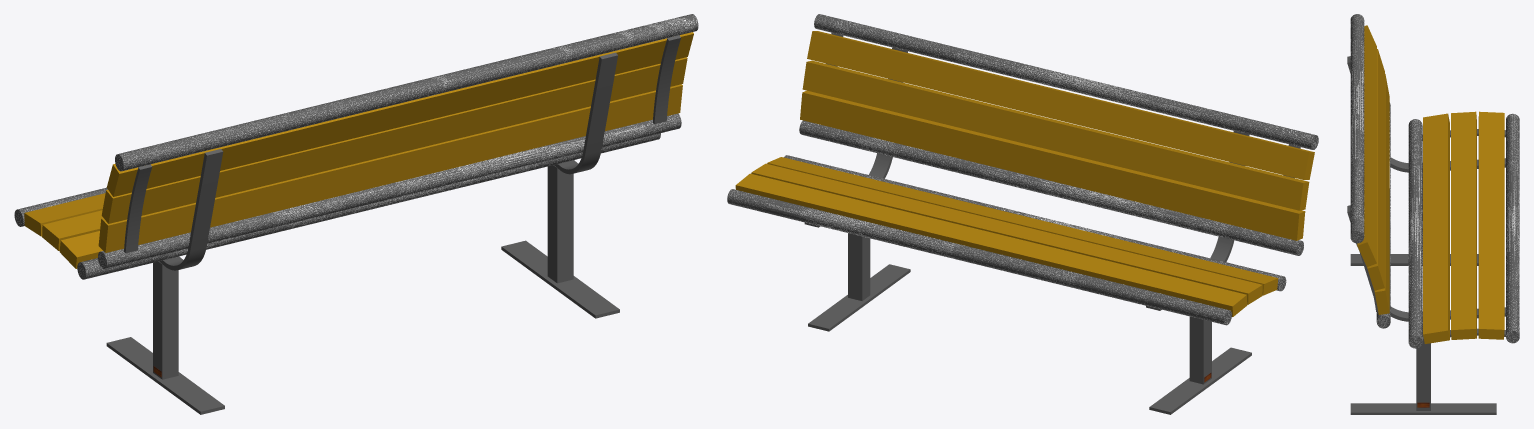
3 views of the same model, side by side, from view 1: azimuth 30°, elevation 25°; view 2: azimuth 150°, elevation 25°; view 3: azimuth 270°, elevation 25° (orthographic). The views are drawn at different scales.
Parts seen in each view (by area): view 1: mesh31_mesh31-geometry, mesh28_mesh28-geometry, mesh25_mesh25-geometry, mesh49_mesh49-geometry, mesh50_mesh50-geometry, mesh52_mesh52-geometry, mesh17_mesh17-geometry, mesh3_mesh3-geometry, mesh1_mesh1-geometry, mesh15_mesh15-geometry, mesh16_mesh16-geometry, mesh2_mesh2-geometry (+8 smaller); view 2: mesh25_mesh25-geometry, mesh28_mesh28-geometry, mesh31_mesh31-geometry, mesh47_mesh47-geometry, mesh51_mesh51-geometry, mesh49_mesh49-geometry, mesh50_mesh50-geometry, mesh41_mesh41-geometry, mesh45_mesh45-geometry, mesh52_mesh52-geometry, mesh29_mesh29-geometry, mesh16_mesh16-geometry (+5 smaller); view 3: mesh47_mesh47-geometry, mesh41_mesh41-geometry, mesh45_mesh45-geometry, mesh52_mesh52-geometry, mesh49_mesh49-geometry, mesh51_mesh51-geometry, mesh25_mesh25-geometry, mesh28_mesh28-geometry, mesh16_mesh16-geometry, mesh31_mesh31-geometry, mesh17_mesh17-geometry, mesh50_mesh50-geometry (+7 smaller).
Boxes of the visible parts, x1,y1,x2,y2 form: mesh31_mesh31-geometry: [98, 85, 682, 252]; mesh28_mesh28-geometry: [101, 58, 687, 223]; mesh25_mesh25-geometry: [106, 32, 693, 196]; mesh49_mesh49-geometry: [115, 14, 698, 171]; mesh50_mesh50-geometry: [98, 113, 681, 268]; mesh52_mesh52-geometry: [77, 133, 660, 279]; mesh17_mesh17-geometry: [547, 165, 573, 283]; mesh3_mesh3-geometry: [153, 261, 178, 379]; mesh1_mesh1-geometry: [159, 149, 223, 270]; mesh15_mesh15-geometry: [554, 52, 617, 174]; mesh16_mesh16-geometry: [501, 240, 619, 318]; mesh2_mesh2-geometry: [106, 337, 224, 414]; mesh25_mesh25-geometry: [807, 31, 1314, 179]; mesh28_mesh28-geometry: [802, 62, 1309, 210]; mesh31_mesh31-geometry: [800, 92, 1305, 240]; mesh47_mesh47-geometry: [735, 173, 1247, 316]; mesh51_mesh51-geometry: [727, 189, 1231, 325]; mesh49_mesh49-geometry: [814, 14, 1318, 149]; mesh50_mesh50-geometry: [799, 120, 1303, 255]; mesh41_mesh41-geometry: [751, 163, 1262, 304]; mesh45_mesh45-geometry: [767, 157, 1278, 295]; mesh52_mesh52-geometry: [784, 155, 1286, 291]; mesh29_mesh29-geometry: [802, 90, 1304, 213]; mesh16_mesh16-geometry: [808, 264, 910, 331]; mesh47_mesh47-geometry: [1478, 111, 1504, 339]; mesh41_mesh41-geometry: [1451, 111, 1476, 339]; mesh45_mesh45-geometry: [1423, 113, 1449, 343]; mesh52_mesh52-geometry: [1408, 119, 1422, 348]; mesh49_mesh49-geometry: [1350, 14, 1364, 243]; mesh51_mesh51-geometry: [1506, 113, 1519, 343]; mesh25_mesh25-geometry: [1357, 25, 1376, 266]; mesh28_mesh28-geometry: [1367, 50, 1384, 290]; mesh16_mesh16-geometry: [1350, 403, 1496, 414]; mesh31_mesh31-geometry: [1374, 74, 1389, 314]; mesh17_mesh17-geometry: [1416, 321, 1430, 410]; mesh50_mesh50-geometry: [1376, 102, 1390, 328].
Bounding box in the file's own units: 0.8693 × 0.3988 × 0.2921.
